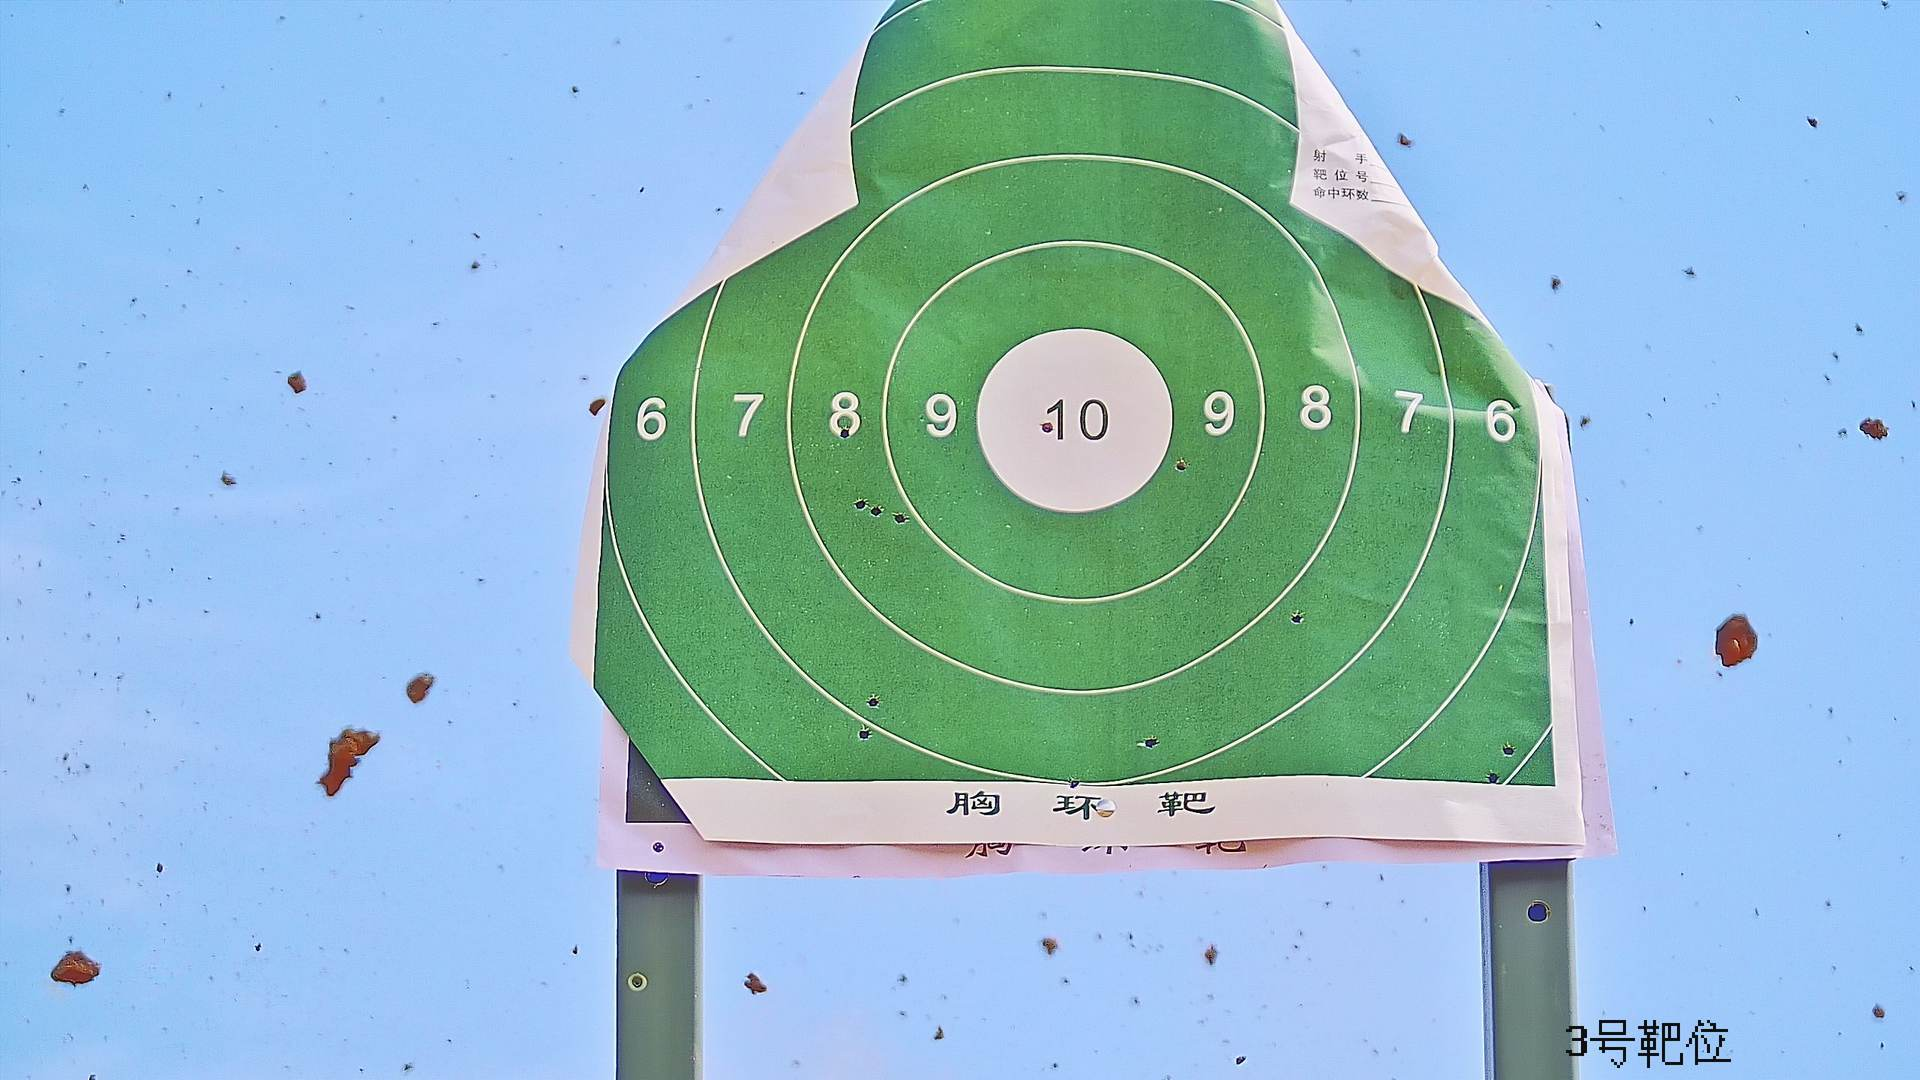hole: (866, 694, 880, 709), (1145, 735, 1158, 750), (1501, 744, 1516, 756), (893, 512, 907, 524), (858, 727, 872, 738), (1040, 421, 1054, 433), (1487, 771, 1499, 785), (1291, 612, 1303, 624), (839, 427, 849, 440), (852, 498, 866, 508), (872, 505, 882, 516), (1178, 458, 1187, 469), (1065, 779, 1079, 787)
kernel: (1071, 422, 1075, 425)
target: (600, 3, 1563, 807)
ten: (975, 327, 1172, 516)
